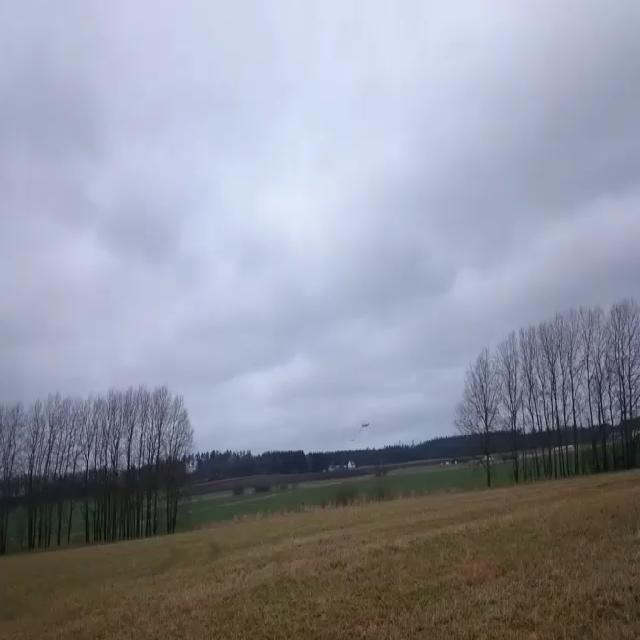Drone: (351, 416, 381, 435)
